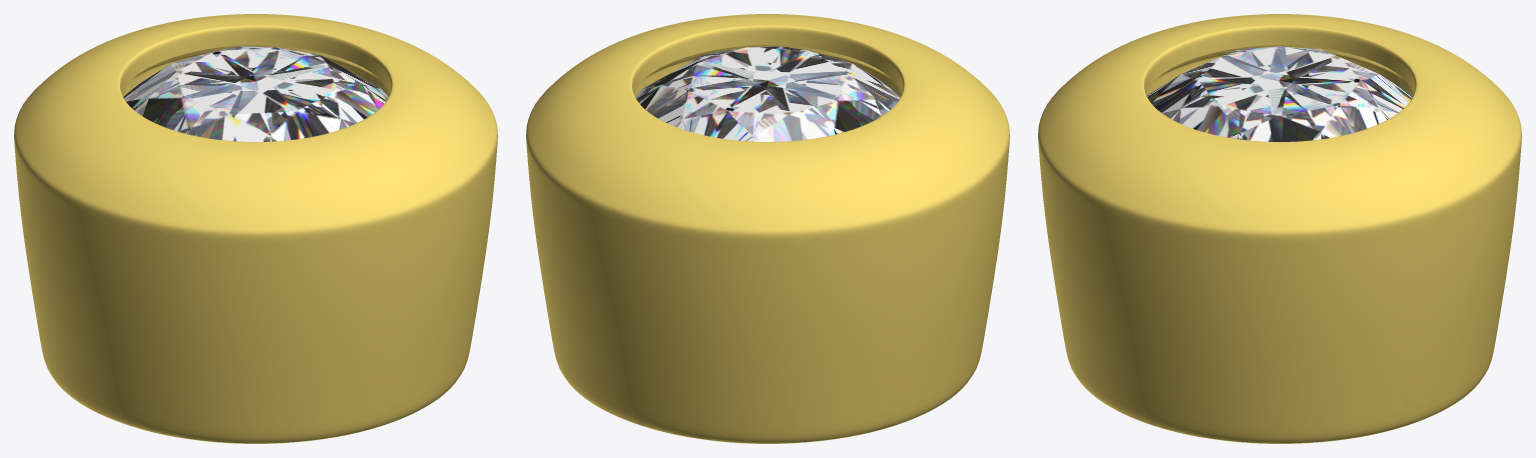
The picture shows the model from 3 angles, left to right: view 1: azimuth 30°, elevation 25°; view 2: azimuth 150°, elevation 25°; view 3: azimuth 270°, elevation 25°; orthographic projection.
Parts seen in each view (by area): view 1: zhuab, dam; view 2: zhuab, dam; view 3: zhuab, dam.
Boxes of the visible parts, left/top/right/bottom form: zhuab: left=14, top=14, right=497, bottom=443; dam: left=123, top=46, right=388, bottom=141; zhuab: left=526, top=14, right=1009, bottom=443; dam: left=635, top=46, right=900, bottom=141; zhuab: left=1038, top=14, right=1521, bottom=443; dam: left=1147, top=46, right=1412, bottom=141.
Size of the model in its own units: 2.51 by 1.58 by 2.51.
2 materials, 2 textured.
